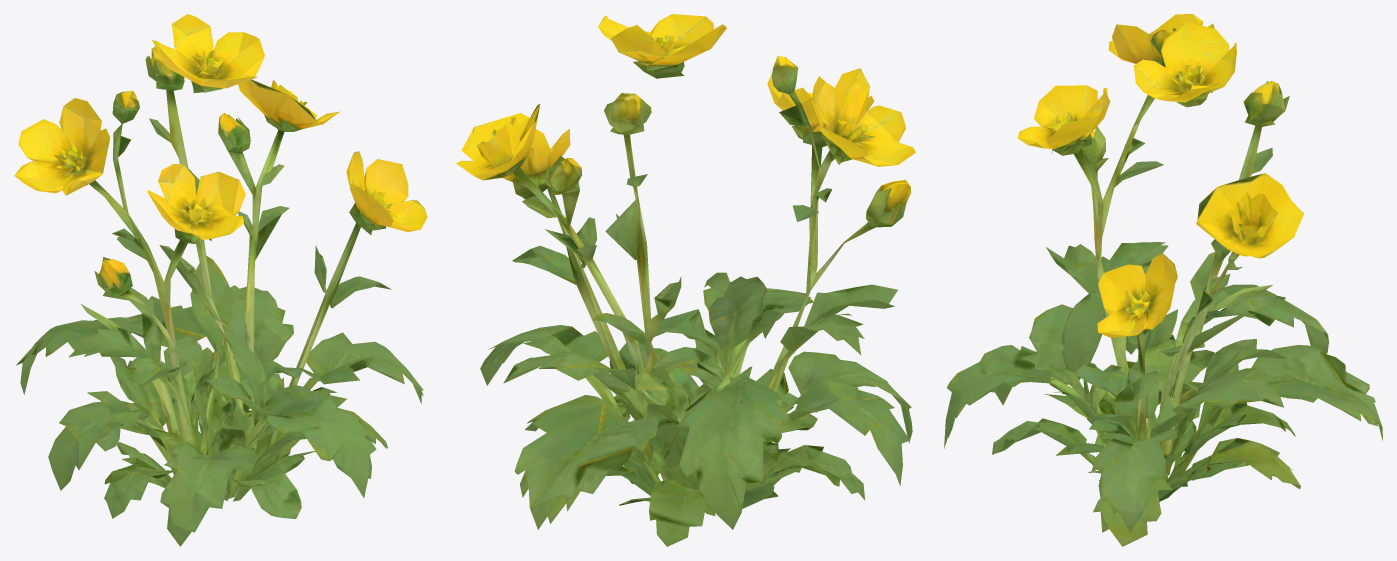
Rendered from buttercup.glb.
3 renders of one model, left to right at view 1: azimuth 30°, elevation 25°; view 2: azimuth 150°, elevation 25°; view 3: azimuth 270°, elevation 25°, orthographic. The views are drawn at different scales.
Parts seen in each view (by area): view 1: Mesh_0; view 2: Mesh_0; view 3: Mesh_0.
Part boxes in pixels (x1,y1,x2,y2): Mesh_0: (14,14,427,546); Mesh_0: (456,14,915,546); Mesh_0: (944,14,1382,546).
Size of the model in its own units: 0.2732 by 0.3 by 0.2656.
1 material, 1 textured.
